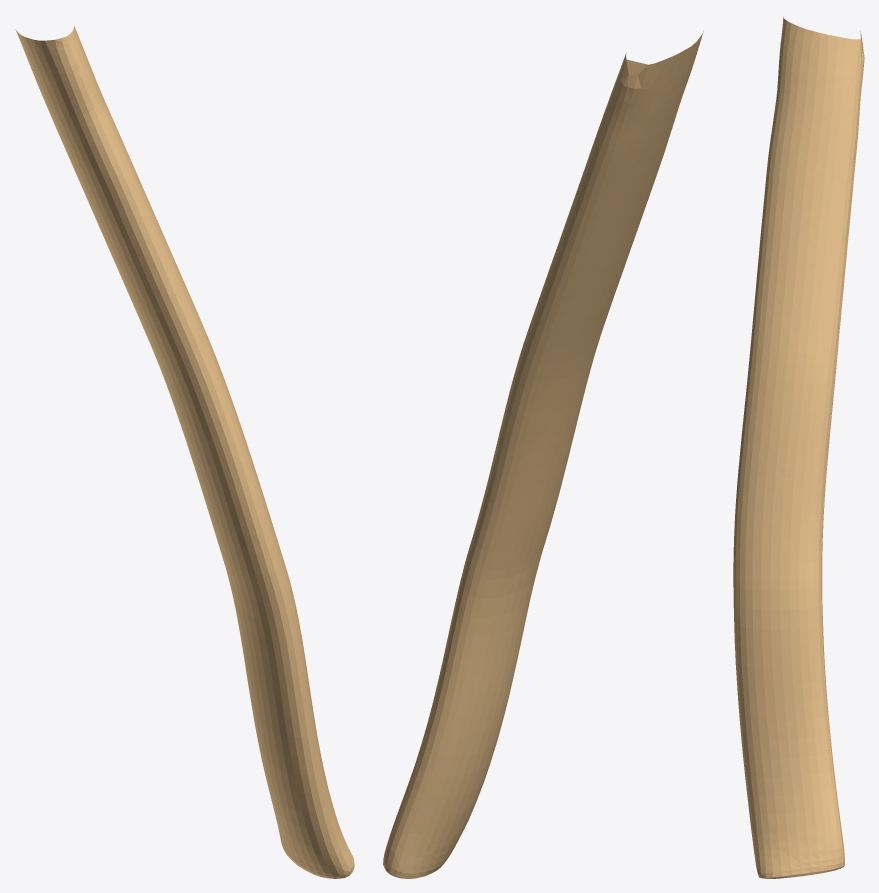
The model's file is N_brachiocephalic.glb.
3 renders of one model, left to right at view 1: azimuth 30°, elevation 25°; view 2: azimuth 150°, elevation 25°; view 3: azimuth 270°, elevation 25°, orthographic. The views are drawn at different scales.
Parts seen in each view (by area): view 1: N_brachiocephalic; view 2: N_brachiocephalic; view 3: N_brachiocephalic.
Part boxes in pixels (left/top/right/bottom): N_brachiocephalic: left=15, top=25, right=354, bottom=878; N_brachiocephalic: left=383, top=30, right=703, bottom=878; N_brachiocephalic: left=733, top=17, right=864, bottom=878.
Size of the model in its own units: 0.00051 by 0.00142 by 0.000225.
